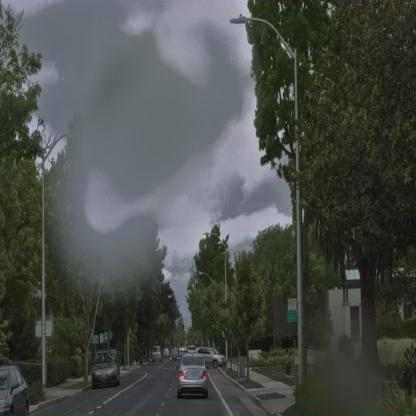car: (0, 365, 31, 415), (177, 360, 210, 400), (91, 349, 120, 387), (194, 347, 224, 369)
